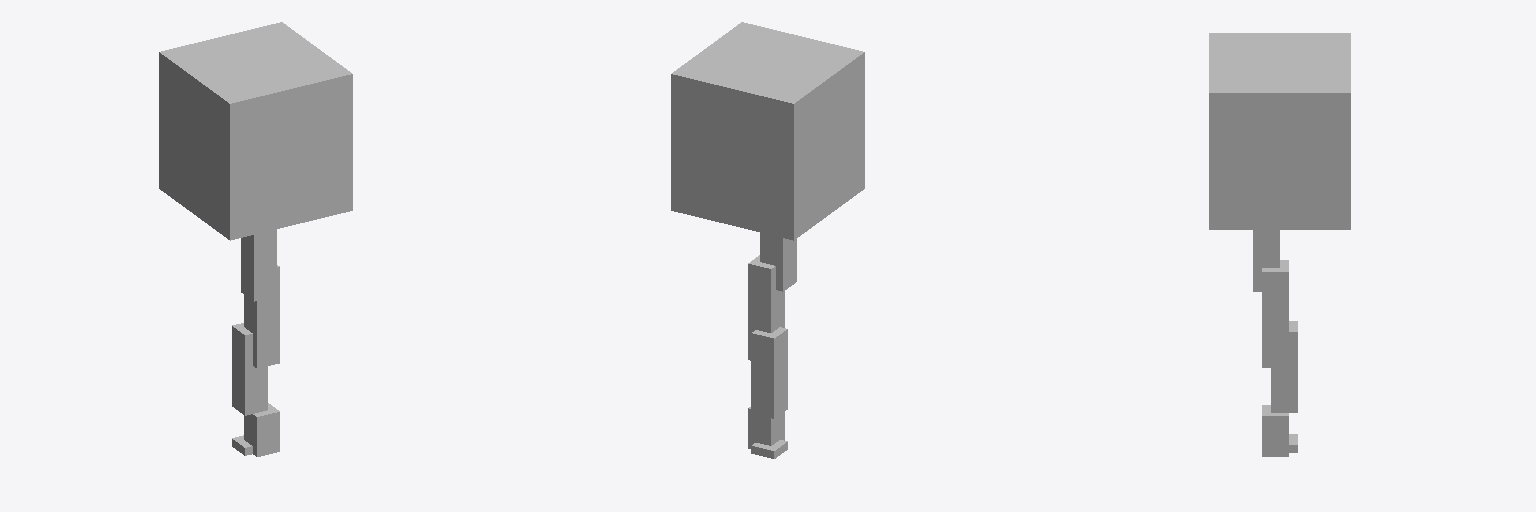
Rendered from Tree.obj.
3 views of the same model, side by side, from view 1: azimuth 30°, elevation 25°; view 2: azimuth 150°, elevation 25°; view 3: azimuth 270°, elevation 25° (orthographic).
Visible parts, largest first — view 1: Tree; view 2: Tree; view 3: Tree.
Part boxes in pixels (left/top/right/bottom): Tree: left=159, top=22, right=352, bottom=456; Tree: left=671, top=22, right=864, bottom=458; Tree: left=1209, top=33, right=1350, bottom=456.
Size of the model in its own units: 16 by 48 by 16.